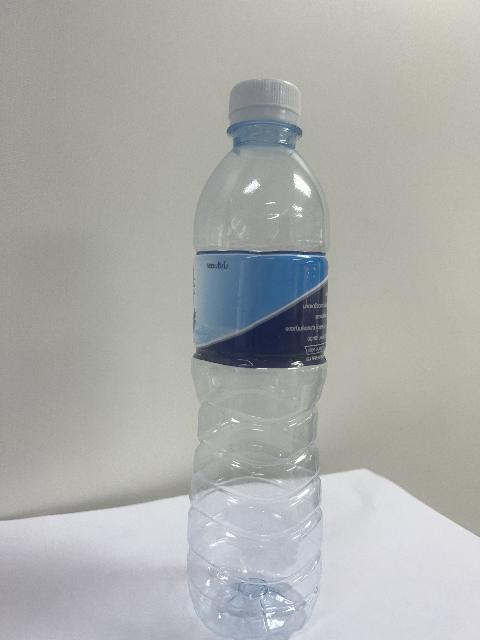bottle: (187, 79, 328, 639)
